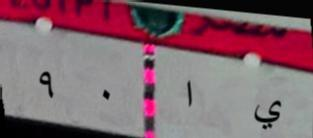0: (96, 87, 120, 107)
9: (39, 67, 57, 104)
alif: (181, 74, 200, 115)
yaa: (250, 89, 284, 138)
